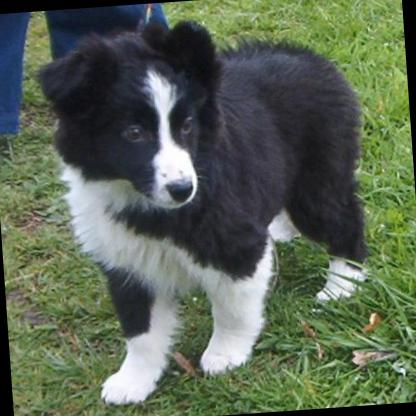Border_collie: (34, 8, 376, 412)
